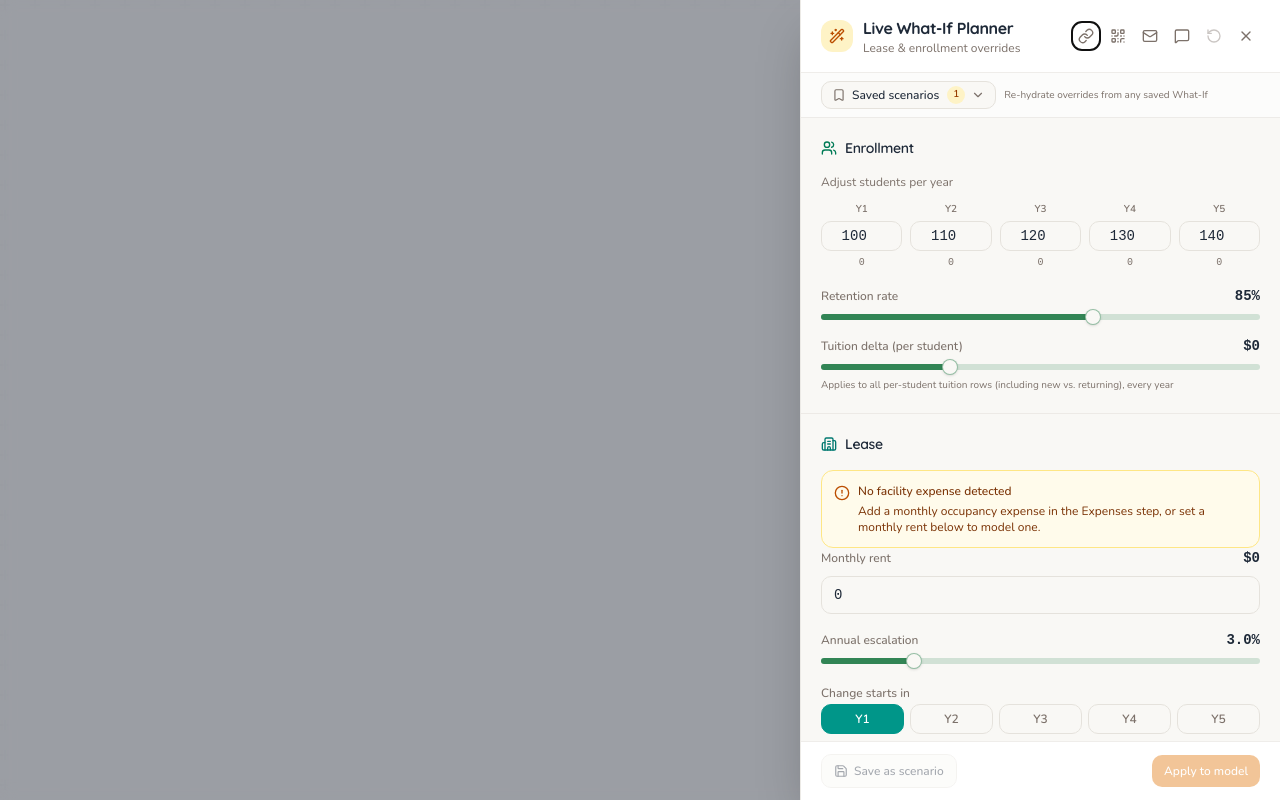
Scenario: WhatIfDrawer — saved scenarios picker › loading a saved scenario replaces any pending overrides instead of merging them
Replace the text in the number field with test id "whatif-enrollment-Y2" with "125" at (951, 236), box [910, 221, 992, 251]
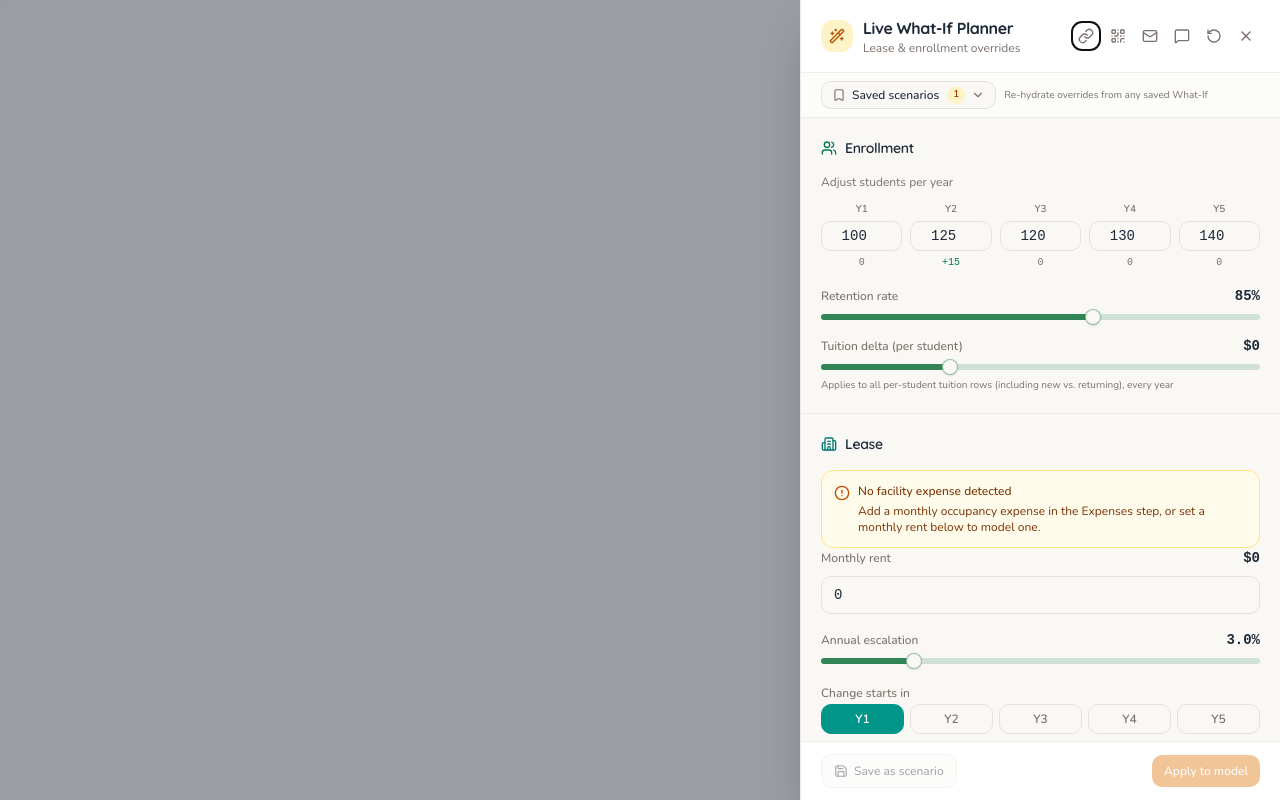
Replace the text in the number field with test id "whatif-monthly-rent" with "9999" at (1040, 595), box [821, 576, 1260, 614]
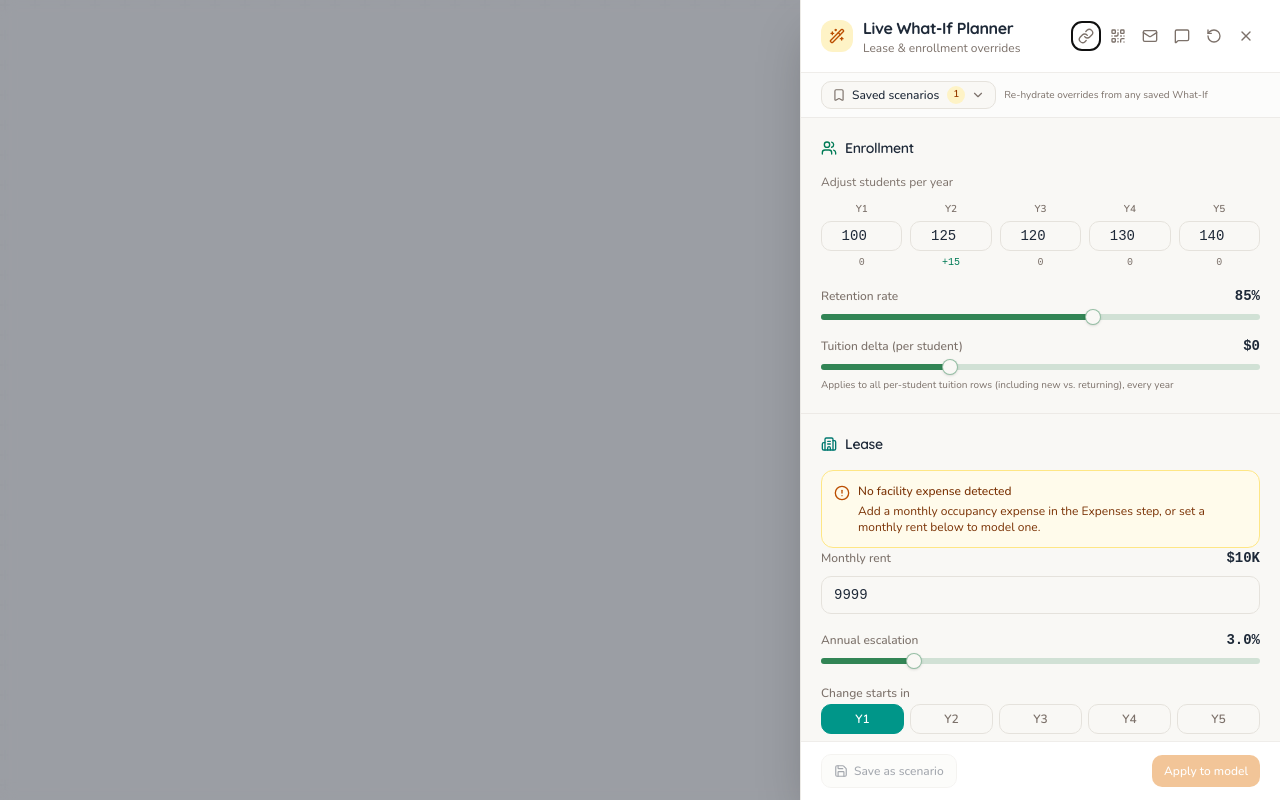
Open the picker and select the scenario.
Click the button with test id "whatif-saved-scenarios-trigger" at (909, 95), box [821, 81, 996, 109]
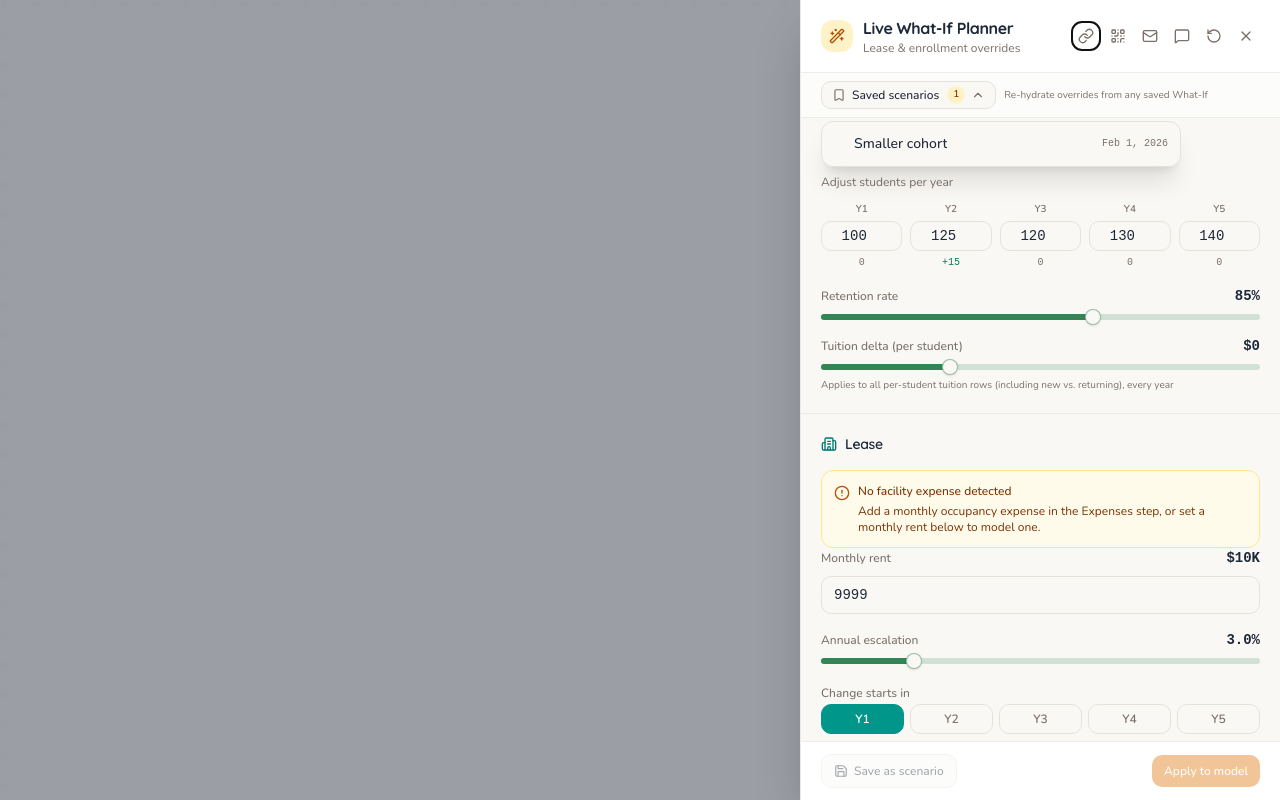
Click the option with test id "whatif-saved-scenario-0" at (901, 144), box [822, 126, 1180, 162]
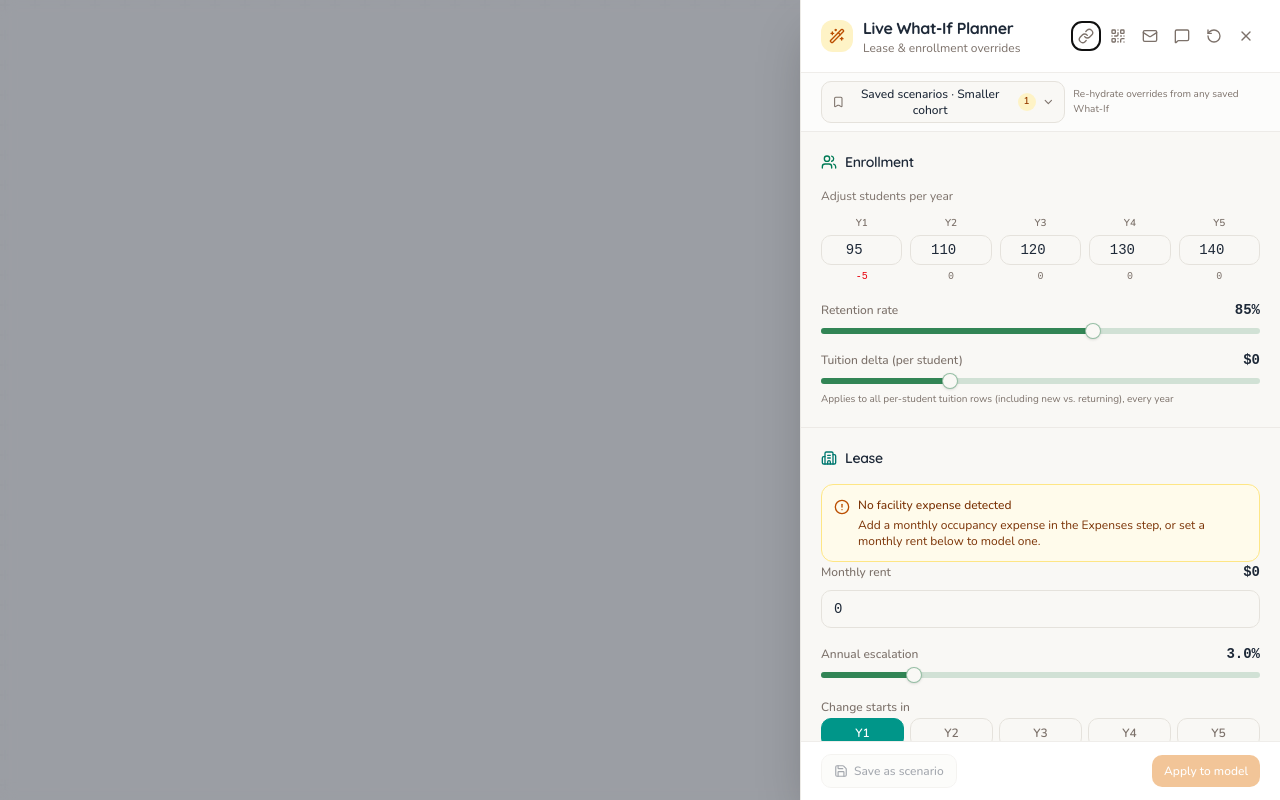
Now the number field with test id "whatif-enrollment-Y1" holds "95", box [821, 235, 902, 265]
Now the number field with test id "whatif-enrollment-Y2" holds "110", box [910, 235, 992, 265]
Now the number field with test id "whatif-monthly-rent" does not hold "9999", box [821, 590, 1260, 628]
